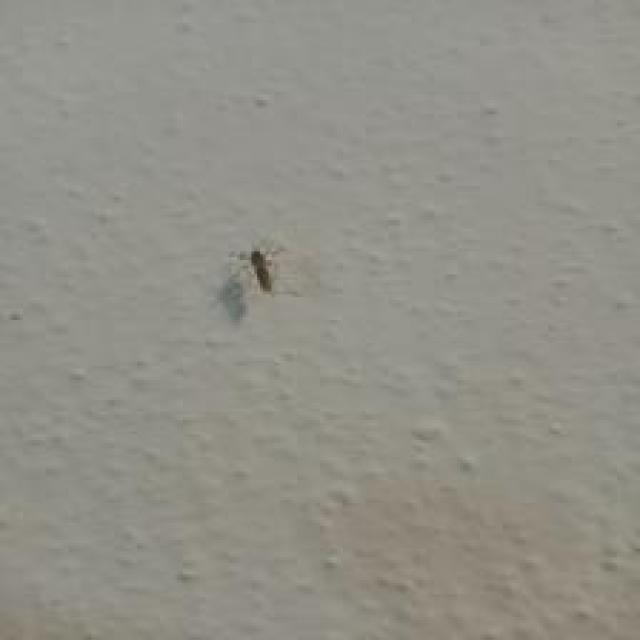Culex: (249, 247, 274, 293)
